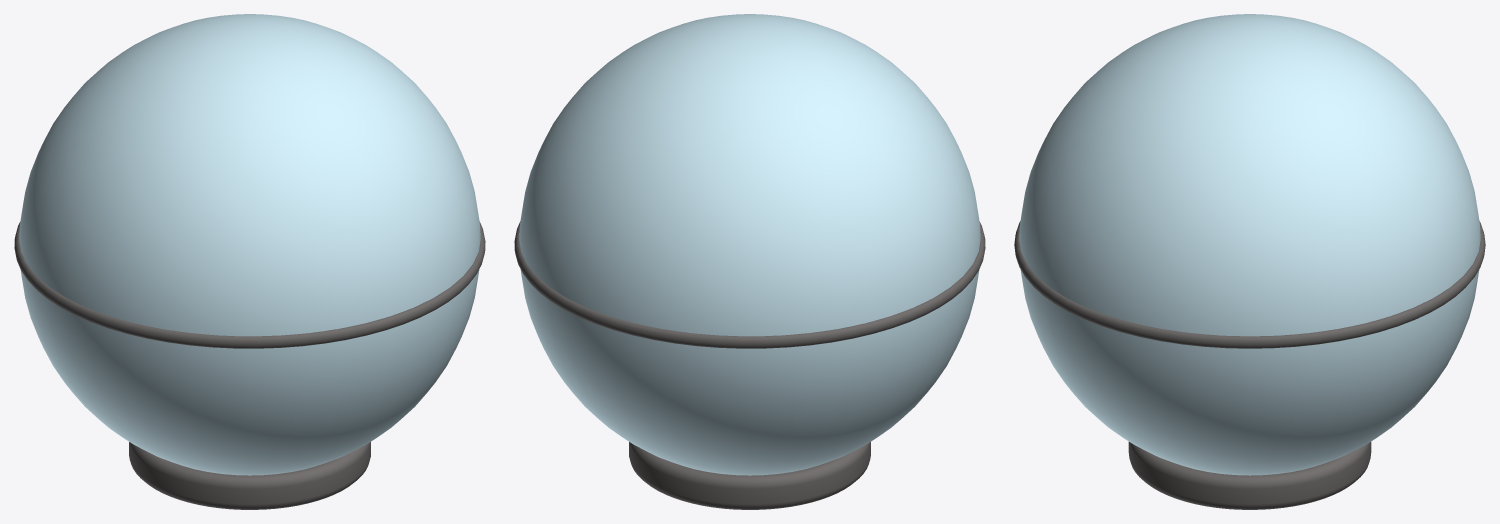
3 views of the same model, side by side, from view 1: azimuth 30°, elevation 25°; view 2: azimuth 150°, elevation 25°; view 3: azimuth 270°, elevation 25° (orthographic).
Parts seen in each view (by area): view 1: Orbital glass, Socket foot, Orbital nickel seam; view 2: Orbital glass, Socket foot, Orbital nickel seam; view 3: Orbital glass, Socket foot, Orbital nickel seam.
Part boxes in pixels (left/top/right/bottom): Orbital glass: left=19, top=14, right=480, bottom=475; Socket foot: left=129, top=442, right=370, bottom=509; Orbital nickel seam: left=14, top=222, right=485, bottom=348; Orbital glass: left=519, top=14, right=980, bottom=475; Socket foot: left=629, top=442, right=870, bottom=509; Orbital nickel seam: left=514, top=222, right=985, bottom=348; Orbital glass: left=1019, top=14, right=1480, bottom=475; Socket foot: left=1128, top=442, right=1371, bottom=509; Orbital nickel seam: left=1014, top=221, right=1485, bottom=348.
Bounding box in the file's own units: 1.67 × 1.67 × 1.67.
